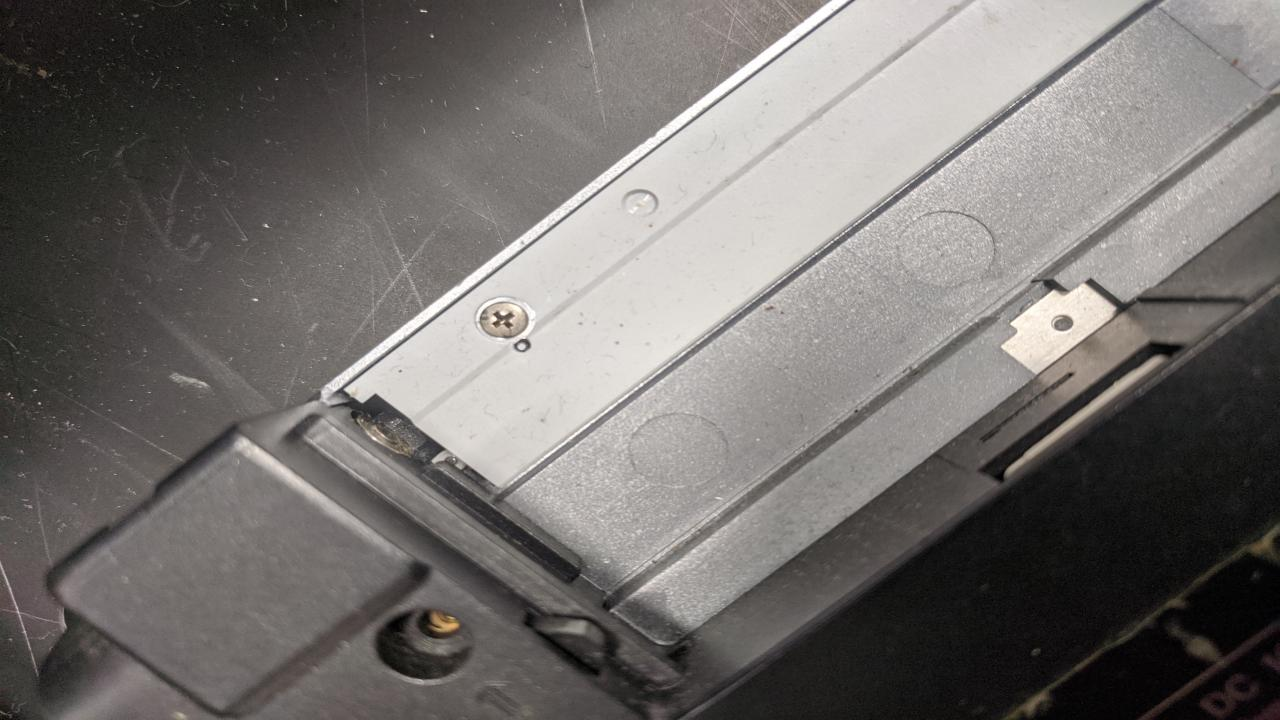CRS: (478, 300, 528, 339)
